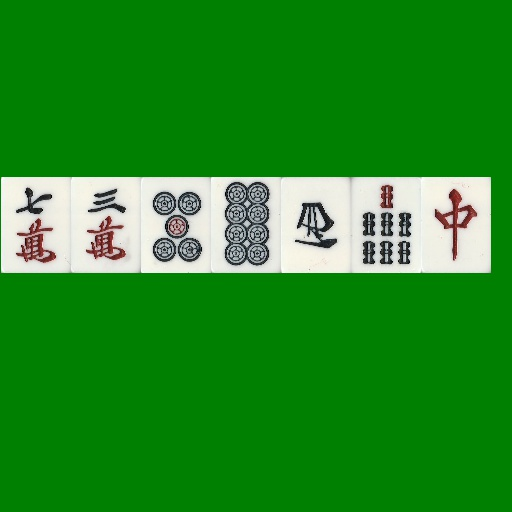3m: (71, 177, 141, 273)
5p: (141, 177, 211, 273)
7m: (1, 177, 71, 273)
7s: (351, 177, 421, 273)
8p: (211, 177, 281, 273)
tyun: (421, 177, 491, 273)
west: (281, 177, 351, 273)
